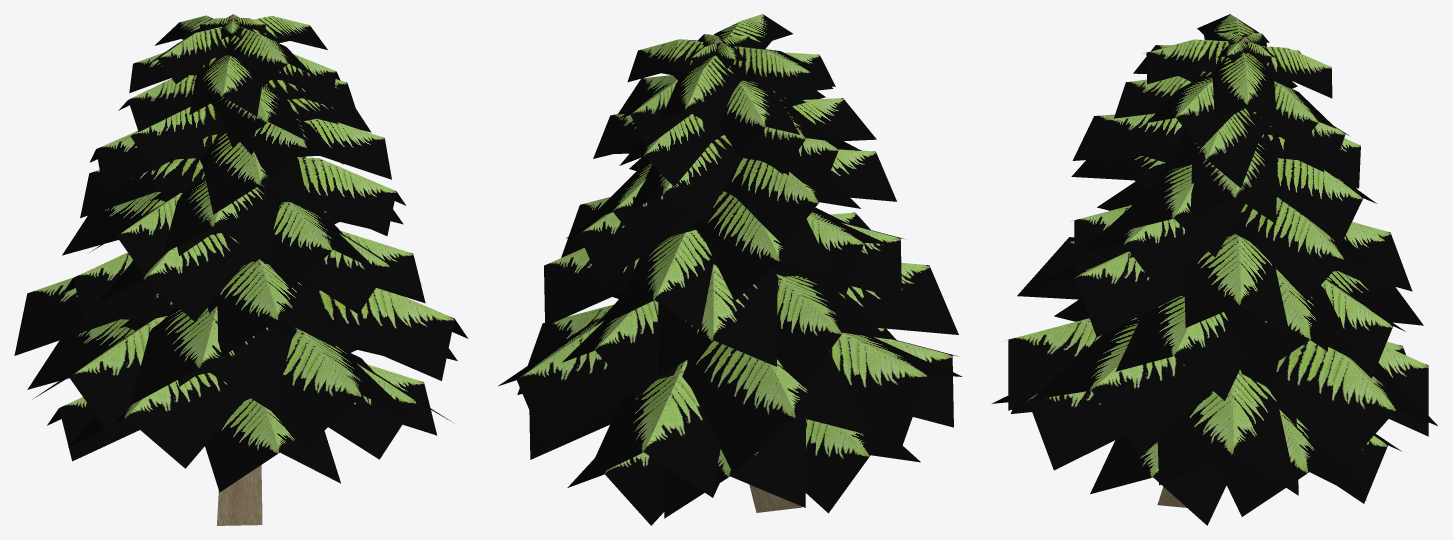
File: tree_fromMountain.obj
3 renders of one model, left to right at view 1: azimuth 30°, elevation 25°; view 2: azimuth 150°, elevation 25°; view 3: azimuth 270°, elevation 25°, orthographic.
Parts seen in each view (by area): view 1: Cylinder.051_Cylinder.057; view 2: Cylinder.051_Cylinder.057; view 3: Cylinder.051_Cylinder.057.
Boxes of the visible parts, box(x1,y1,x2,y2) form: Cylinder.051_Cylinder.057: box(14, 14, 468, 525); Cylinder.051_Cylinder.057: box(498, 14, 962, 525); Cylinder.051_Cylinder.057: box(991, 14, 1437, 525).
Size of the model in its own units: 0.6324 by 0.7582 by 0.6402.
